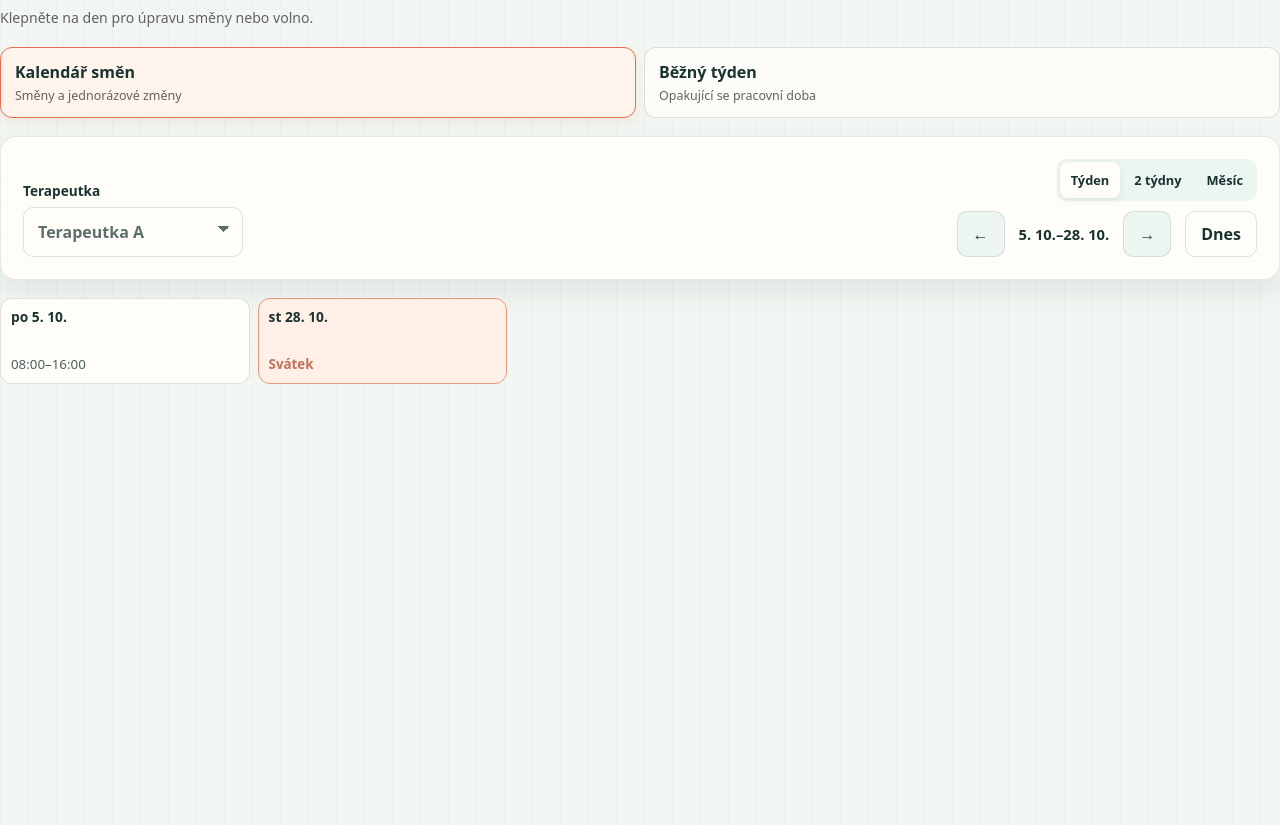
Test: keeps a failed daily load unsavable and retries it
Click the button "po 5. 10. 08:00–16:00" at coordinates (125, 341), box left=0, top=298, right=250, bottom=384
(page scrolled)
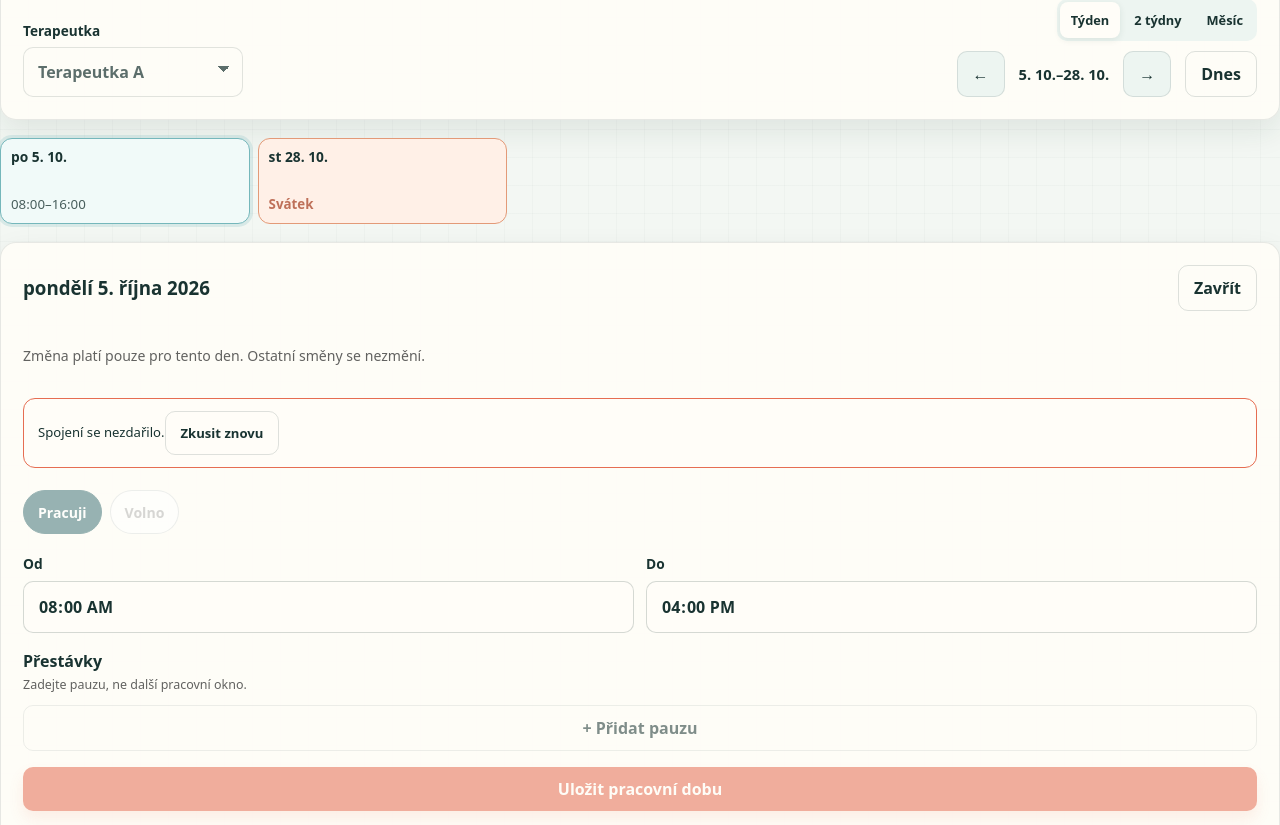
Check: the element named "Uložit pracovní dobu" is disabled, box left=23, top=482, right=1257, bottom=811
Click the button "Zkusit znovu" at coordinates (222, 433), box left=164, top=411, right=279, bottom=455
(page scrolled)
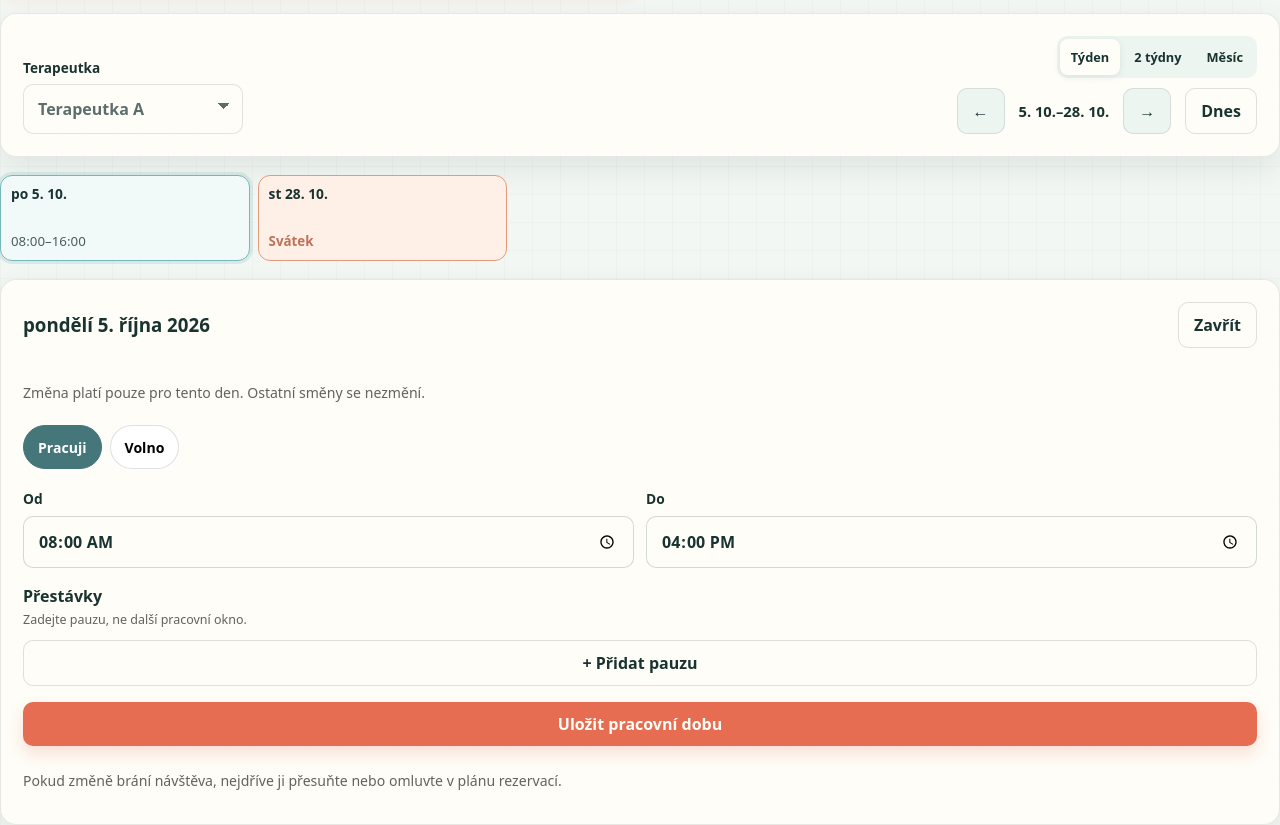
Check: the element named "Uložit pracovní dobu" is enabled, box left=23, top=417, right=1257, bottom=746
